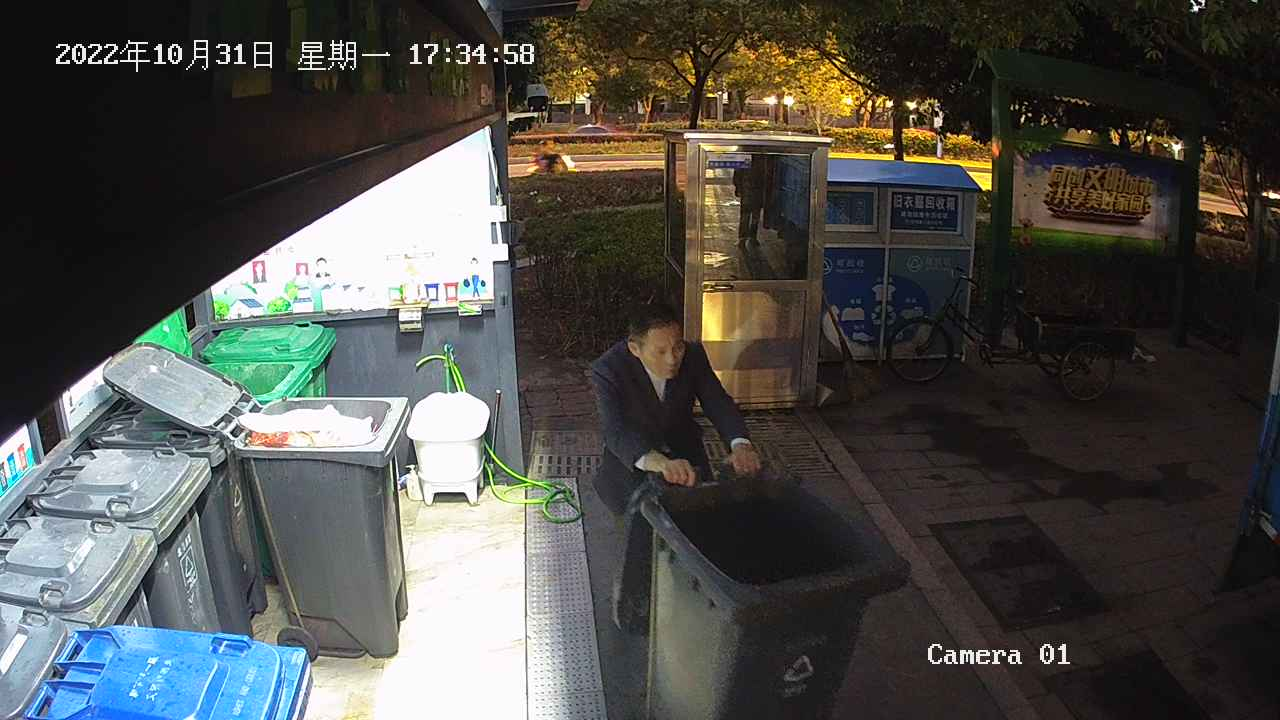person: (585, 306, 762, 637)
